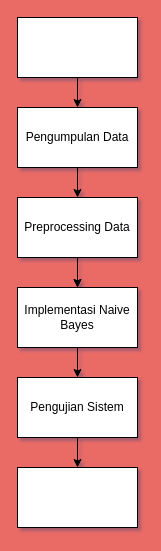
The diagram is 161 pixels wide and 551 high, and some of its shapes have lost their labels. The centre of each missing label's shape, as x and y in pixels:
Analisa dan Hasil: the point at 77,497
Identifikasi Masalah: the point at 77,47
